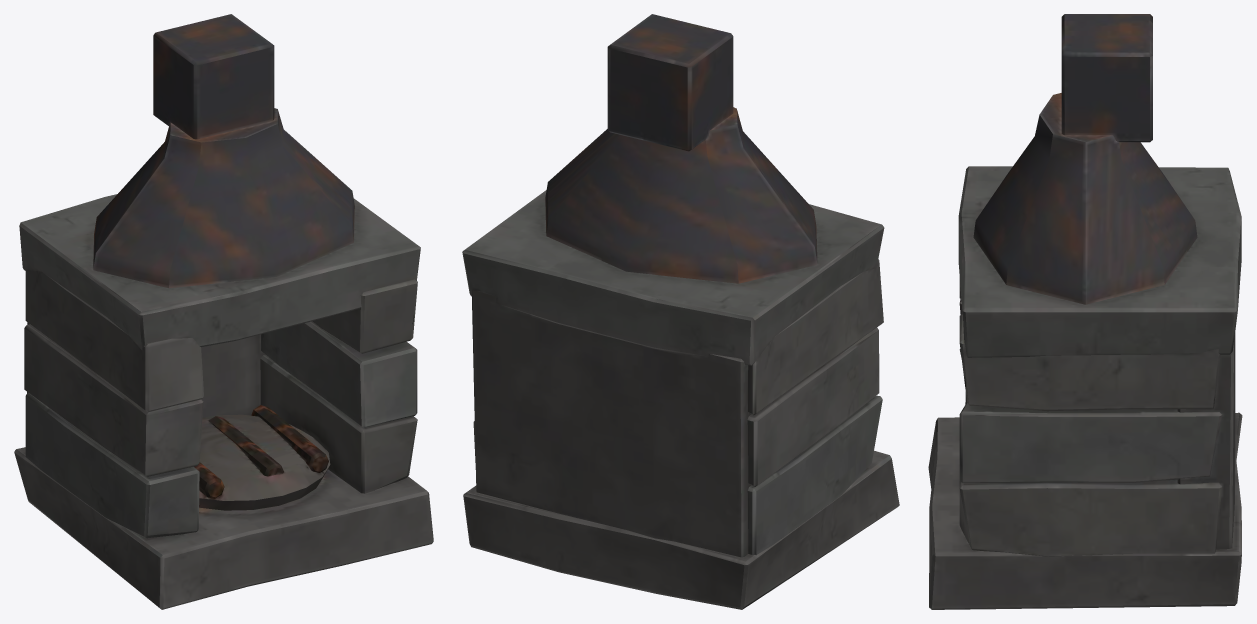
The model's file is forge.glb.
3 renders of one model, left to right at view 1: azimuth 30°, elevation 25°; view 2: azimuth 150°, elevation 25°; view 3: azimuth 270°, elevation 25°, orthographic. The views are drawn at different scales.
Visible parts, largest first — view 1: forge; view 2: forge; view 3: forge.
Boxes of the visible parts, x1,y1,x2,y2 form: forge: (14, 14, 433, 609); forge: (462, 14, 899, 609); forge: (928, 14, 1242, 609).
Bounding box in the file's own units: 0.94 × 1.53 × 0.8608.
1 material, 1 textured.
